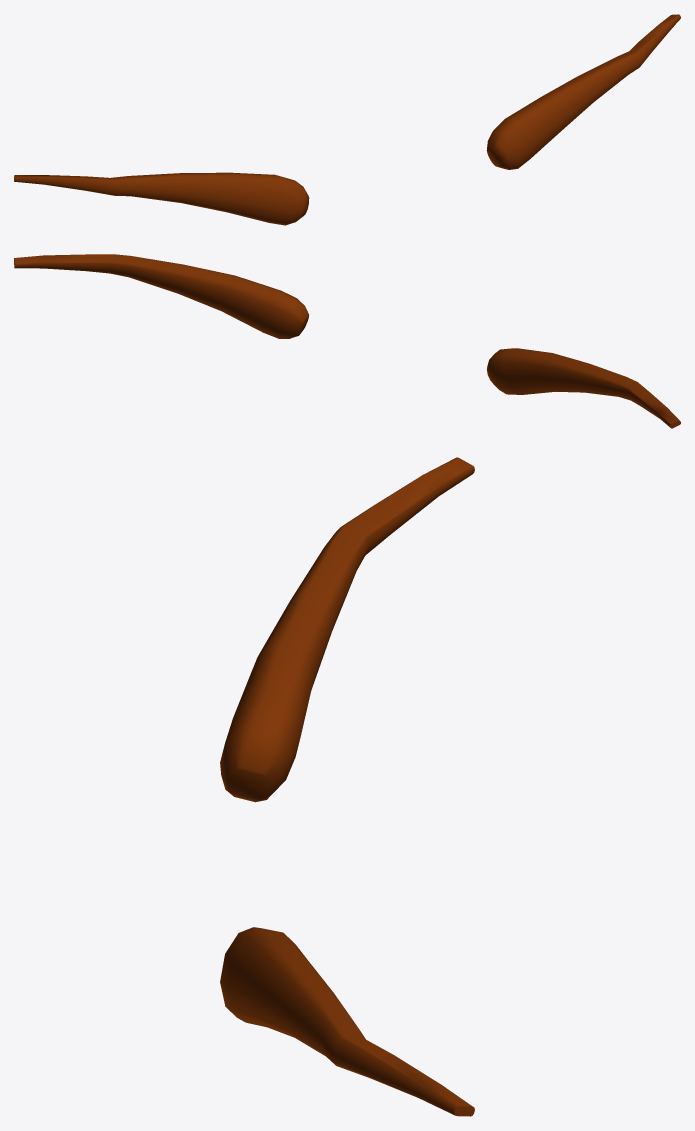
The model's file is Eyebrows_25_02.fbx.
3 renders of one model, top to bottom at view 1: azimuth 30°, elevation 25°; view 2: azimuth 150°, elevation 25°; view 3: azimuth 270°, elevation 25°, orthographic. The views are drawn at different scales.
Visible parts, largest first — view 1: Eyebrows_25_02; view 2: Eyebrows_25_02; view 3: Eyebrows_25_02.
Part boxes in pixels (x1,y1,x2,y2): Eyebrows_25_02: [14, 14, 680, 225]; Eyebrows_25_02: [14, 254, 680, 428]; Eyebrows_25_02: [220, 457, 474, 1116].
Size of the model in its own units: 17.7 by 1.64 by 2.93.
